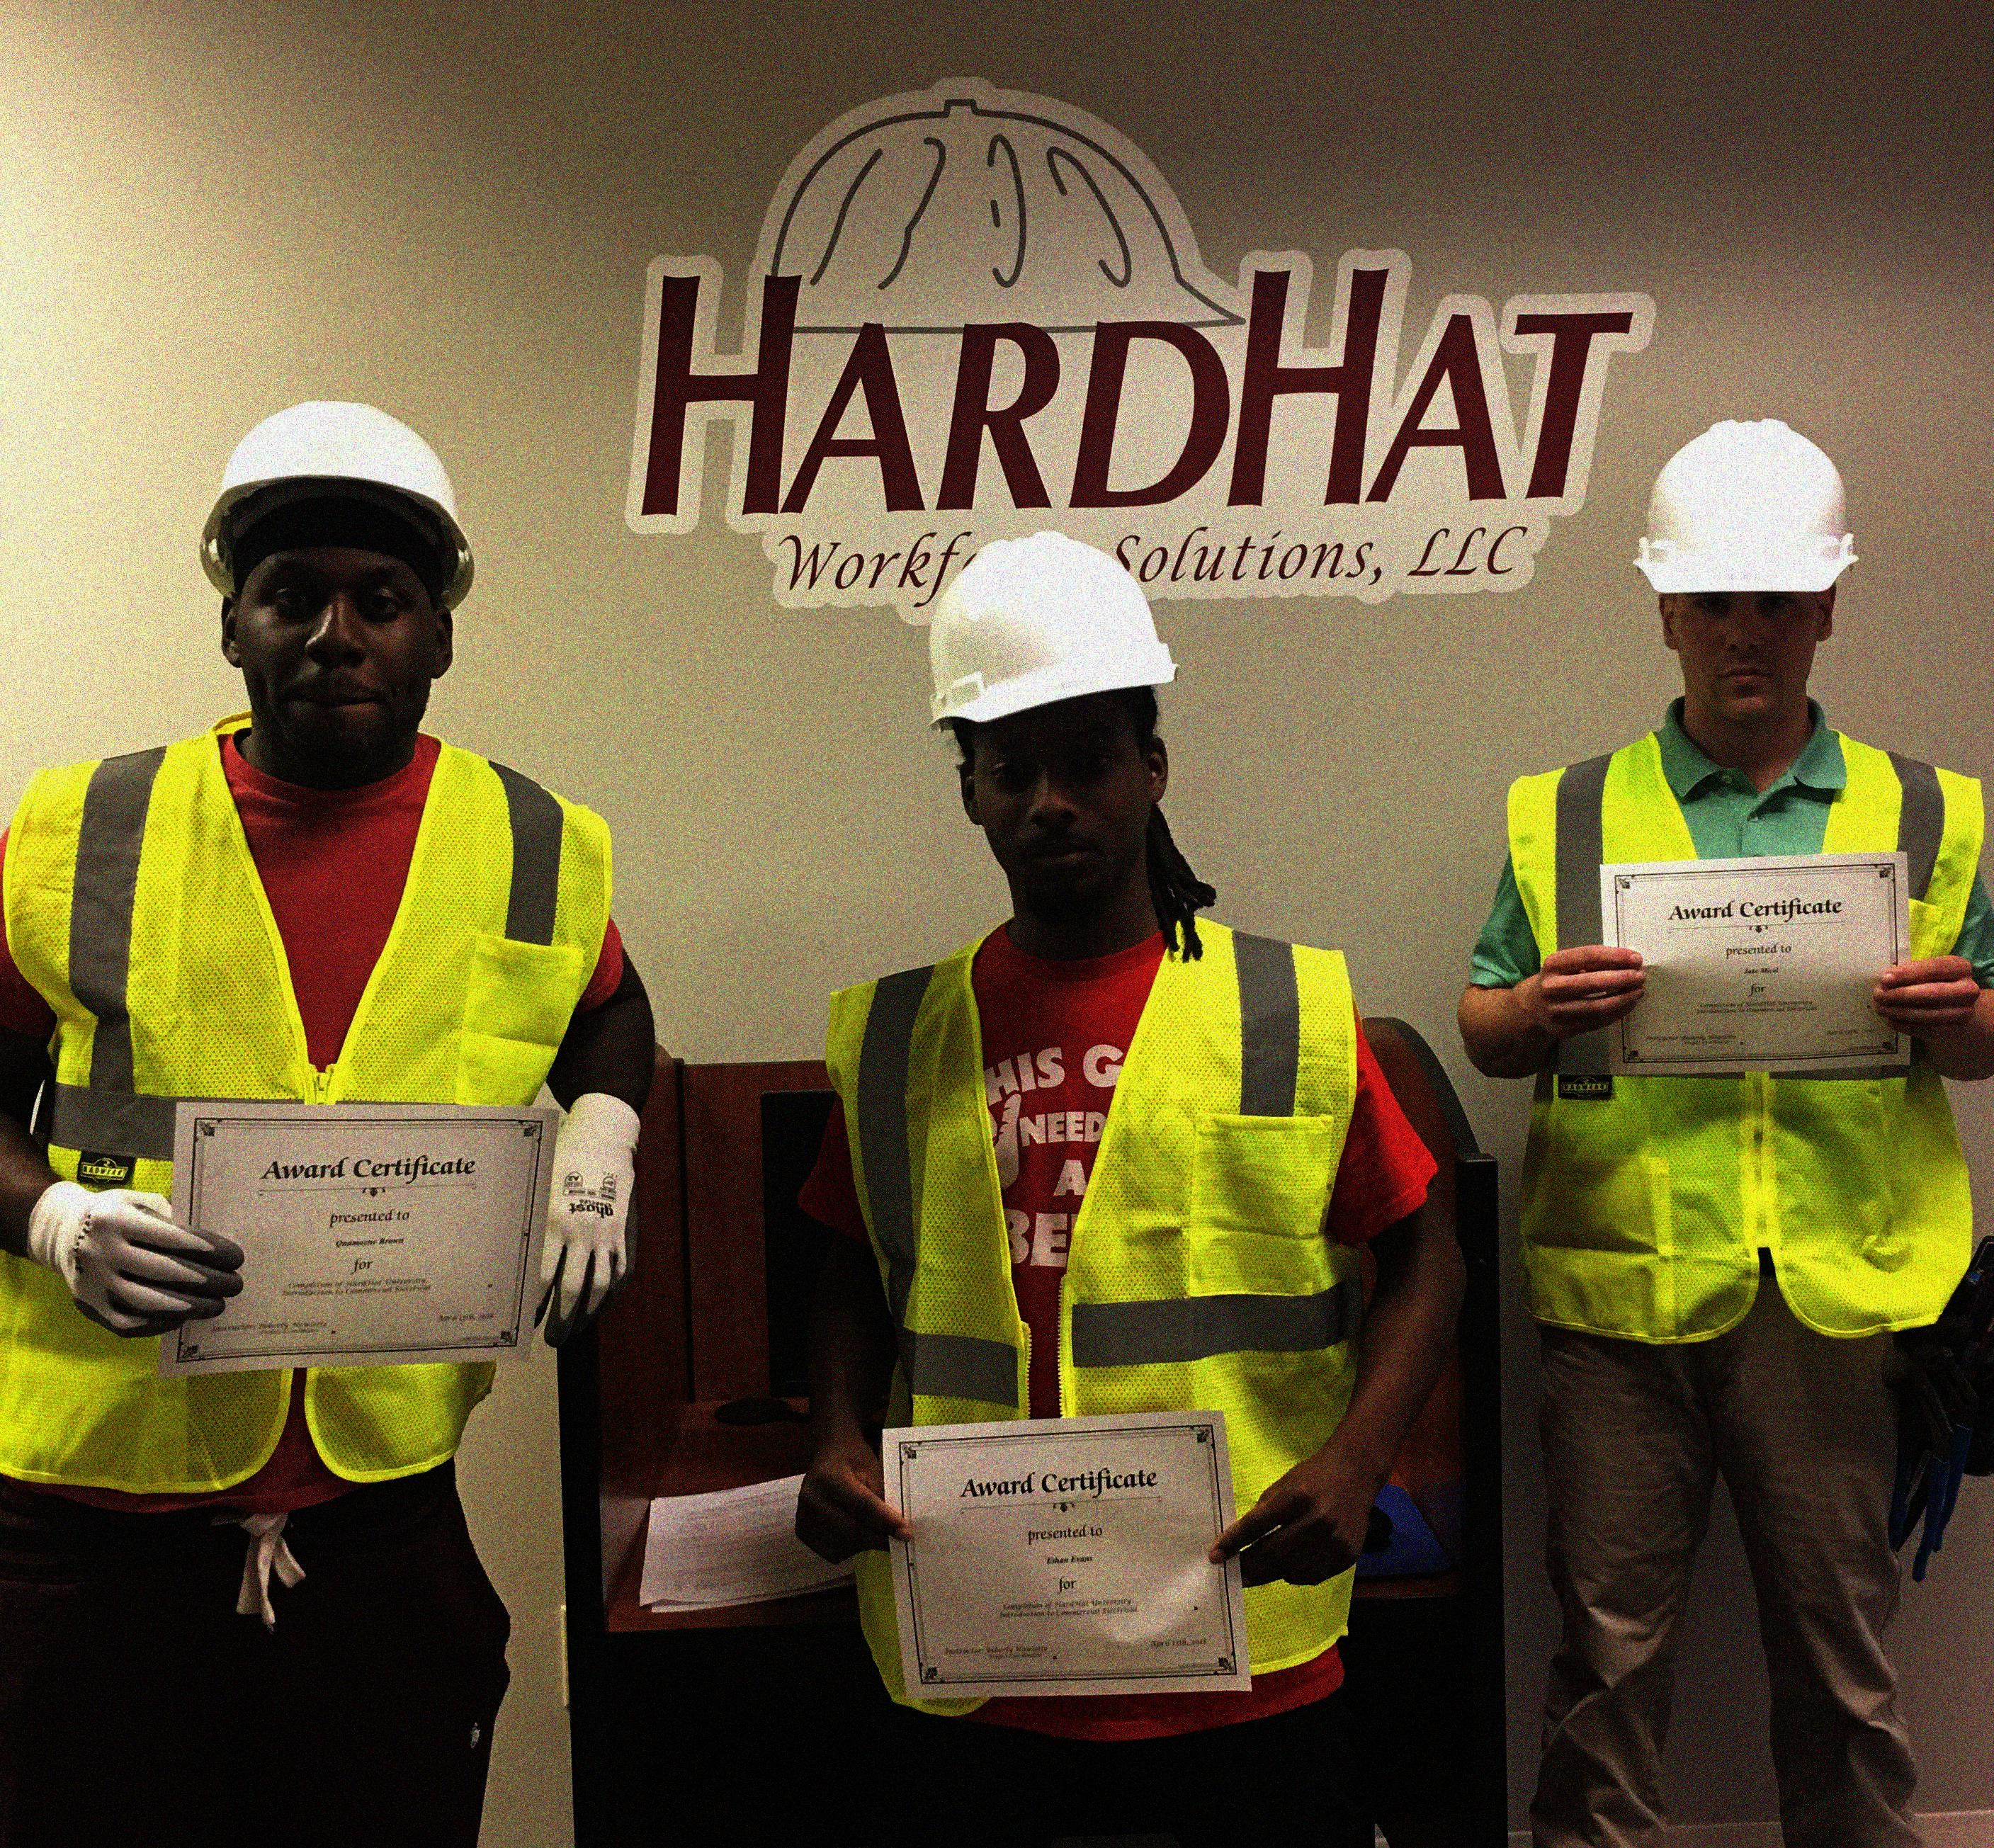helmet: (198, 393, 481, 752), (921, 531, 1190, 900), (1631, 415, 1864, 733)
